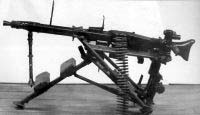rifle: (2, 13, 194, 95)
